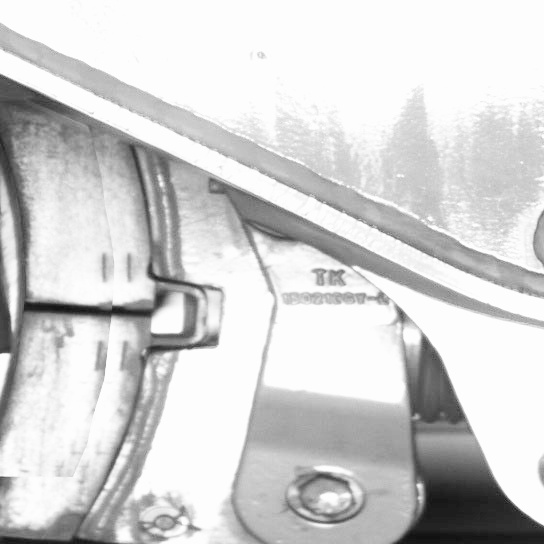ClosedKnifeSwitch: (1, 145, 184, 543)
